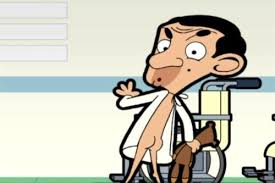mrbean: (112, 14, 248, 99)
